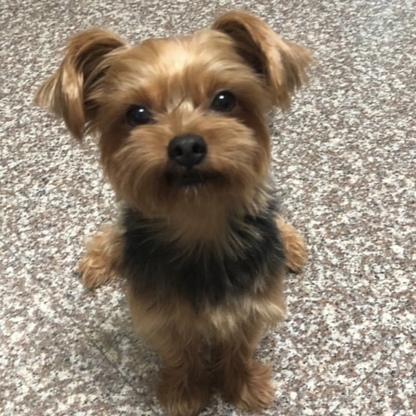yorkshire: (40, 8, 315, 416)
